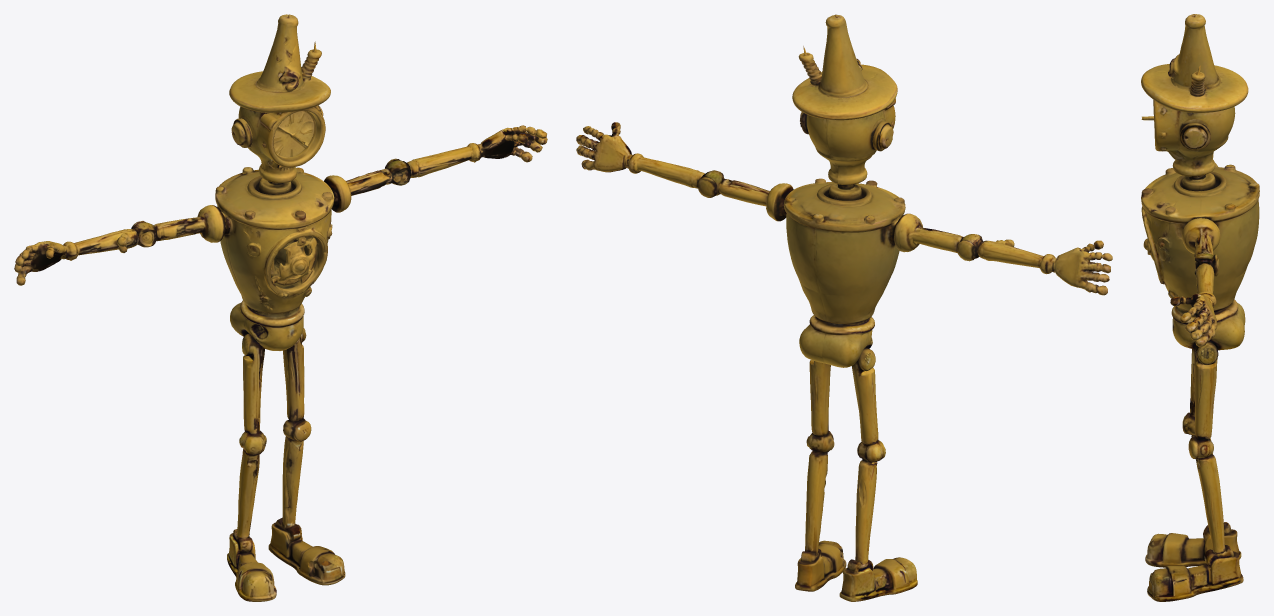
Rendered from clockwork_debt_collector.glb.
3 renders of one model, left to right at view 1: azimuth 30°, elevation 25°; view 2: azimuth 150°, elevation 25°; view 3: azimuth 270°, elevation 25°, orthographic. The views are drawn at different scales.
Visible parts, largest first — view 1: tripo_node_4c1d483b-e8f4-49dd-8a2a-8b44a1bb5265; view 2: tripo_node_4c1d483b-e8f4-49dd-8a2a-8b44a1bb5265; view 3: tripo_node_4c1d483b-e8f4-49dd-8a2a-8b44a1bb5265.
Boxes of the visible parts, x1,y1,x2,y2 form: tripo_node_4c1d483b-e8f4-49dd-8a2a-8b44a1bb5265: [14, 14, 547, 601]; tripo_node_4c1d483b-e8f4-49dd-8a2a-8b44a1bb5265: [576, 14, 1112, 601]; tripo_node_4c1d483b-e8f4-49dd-8a2a-8b44a1bb5265: [1141, 14, 1259, 601].
Bounding box in the file's own units: 0.9656 × 0.978 × 0.185.
1 material, 1 textured.
